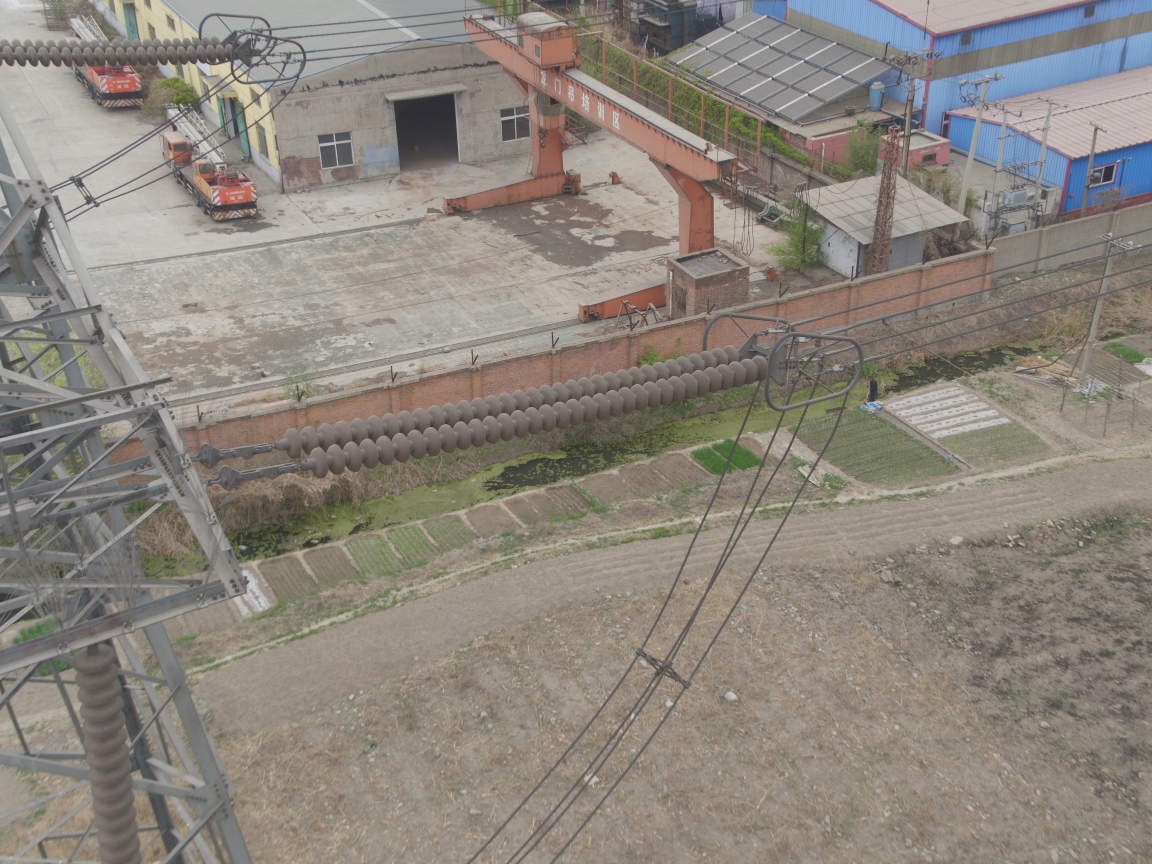insulator: (253, 338, 780, 481), (1, 34, 246, 69)
